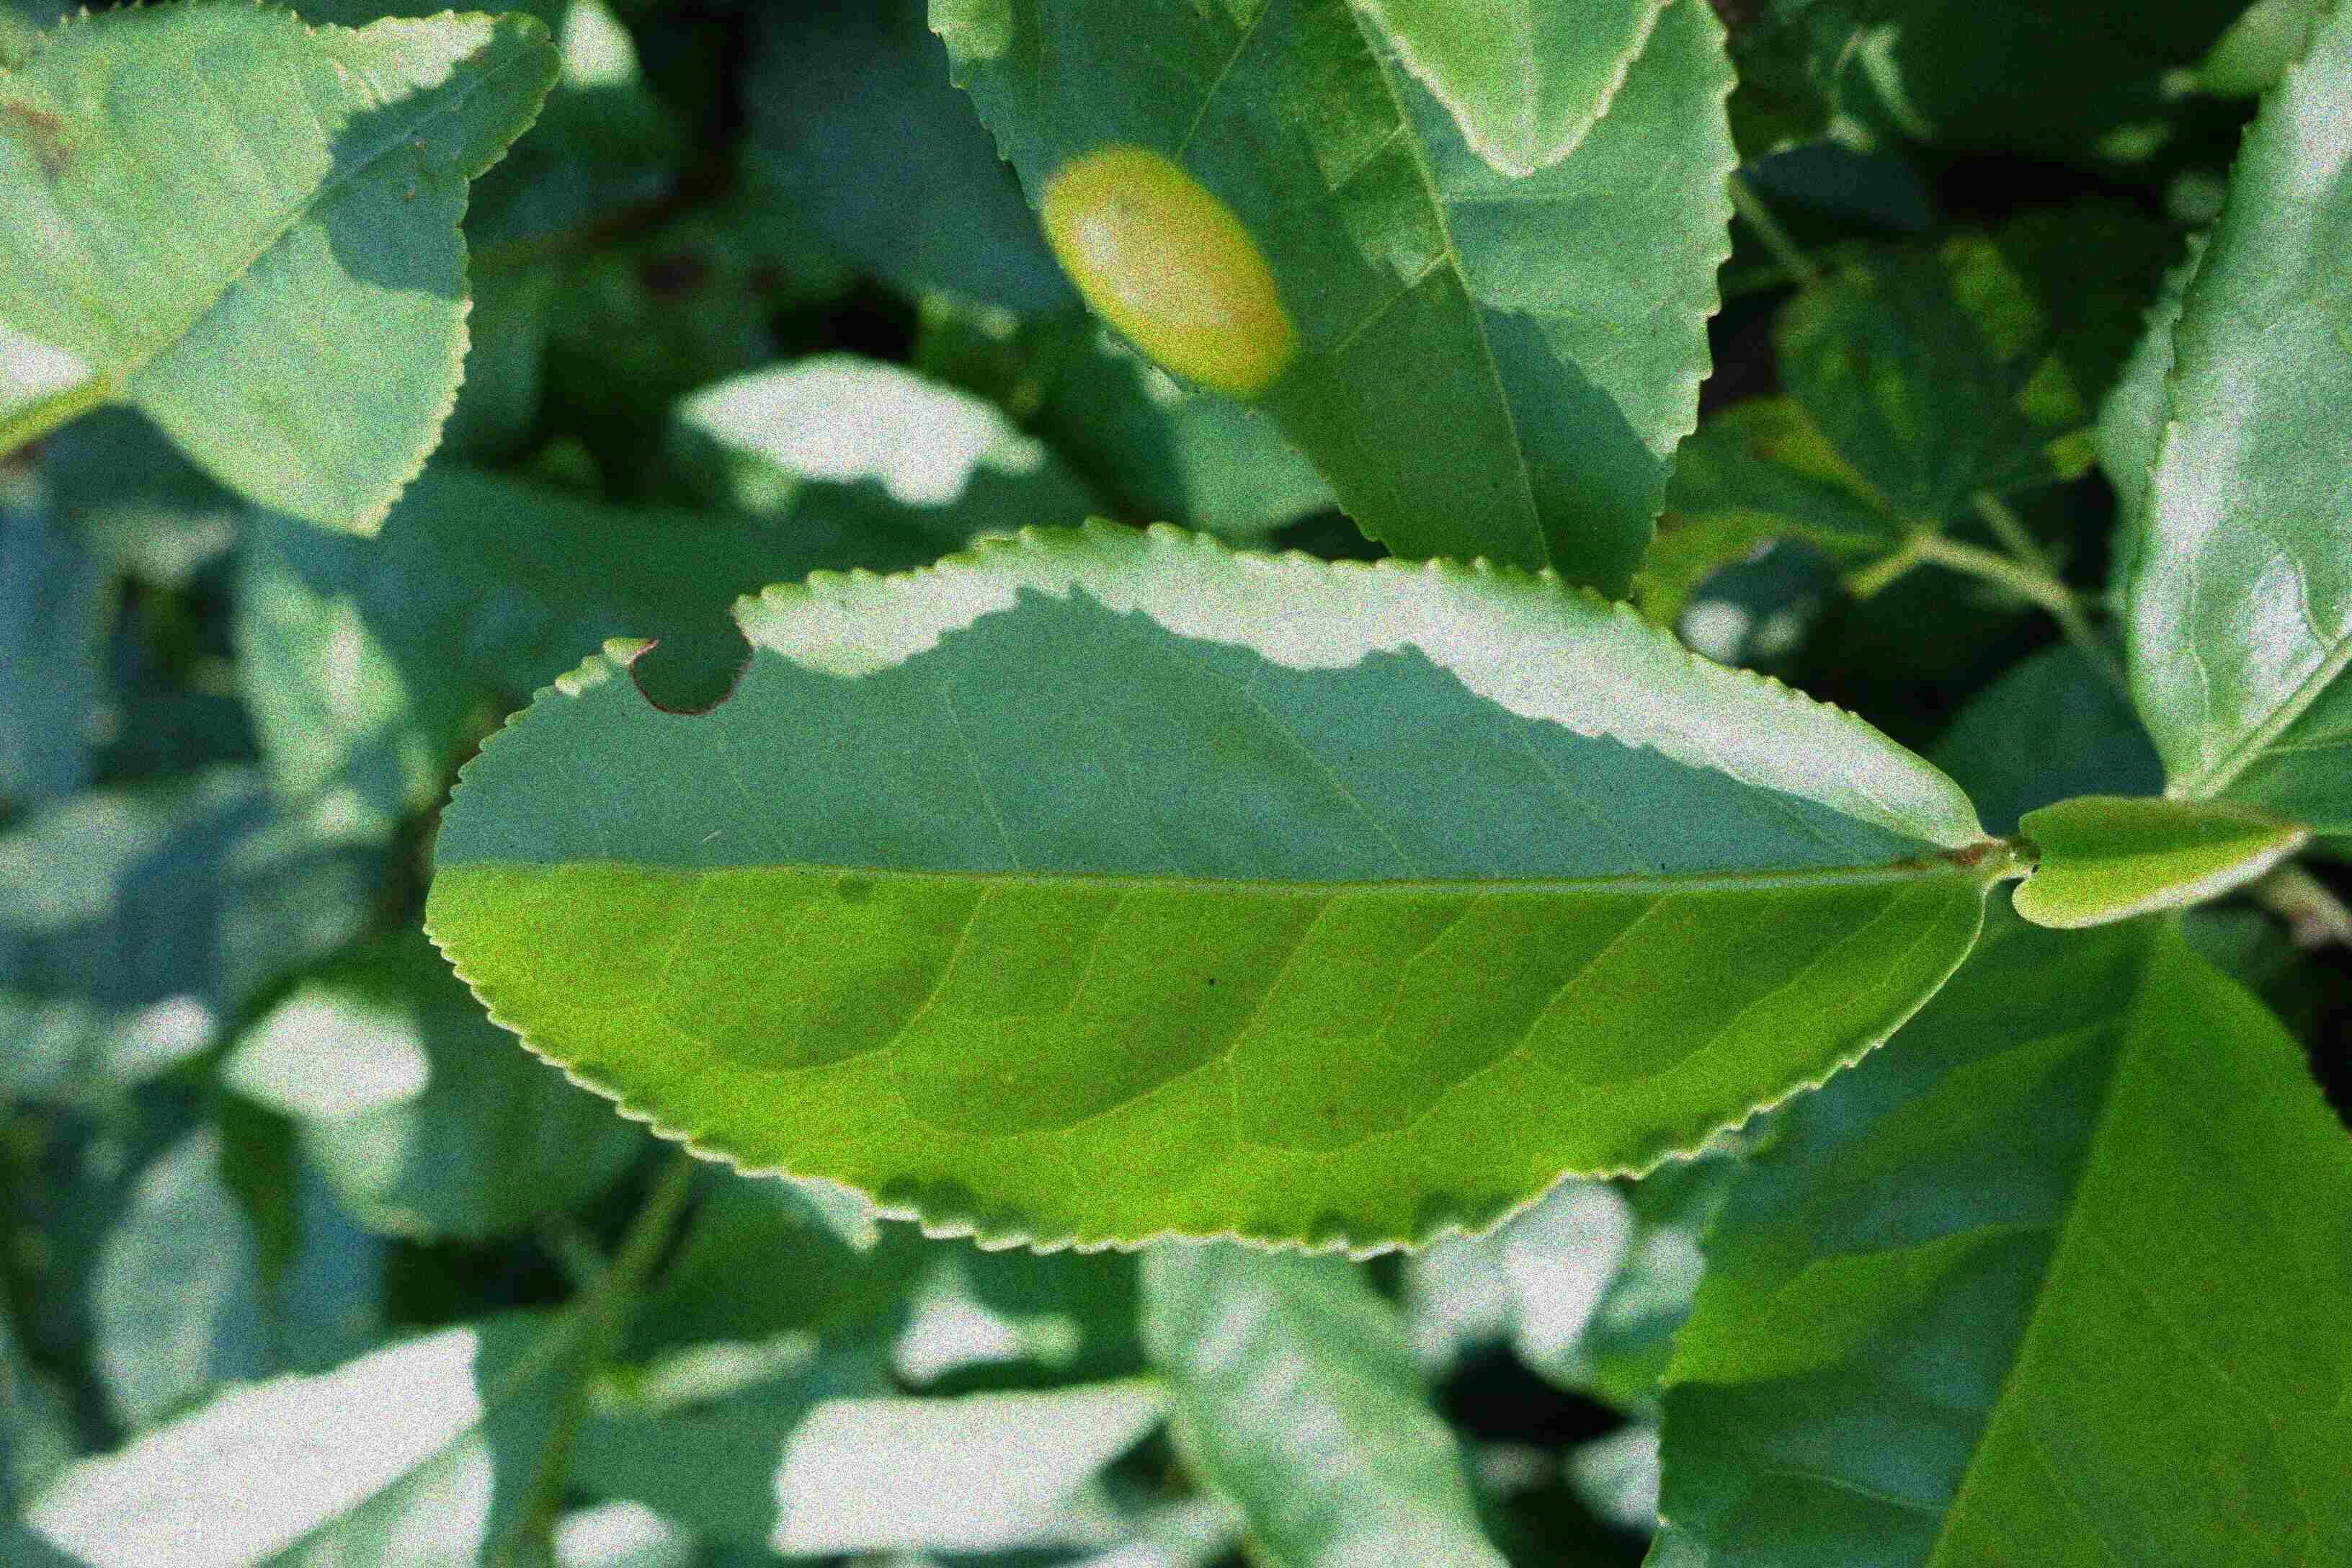chabing_low: (934, 3, 1738, 579)
chihuo_low: (429, 516, 1995, 1260)
